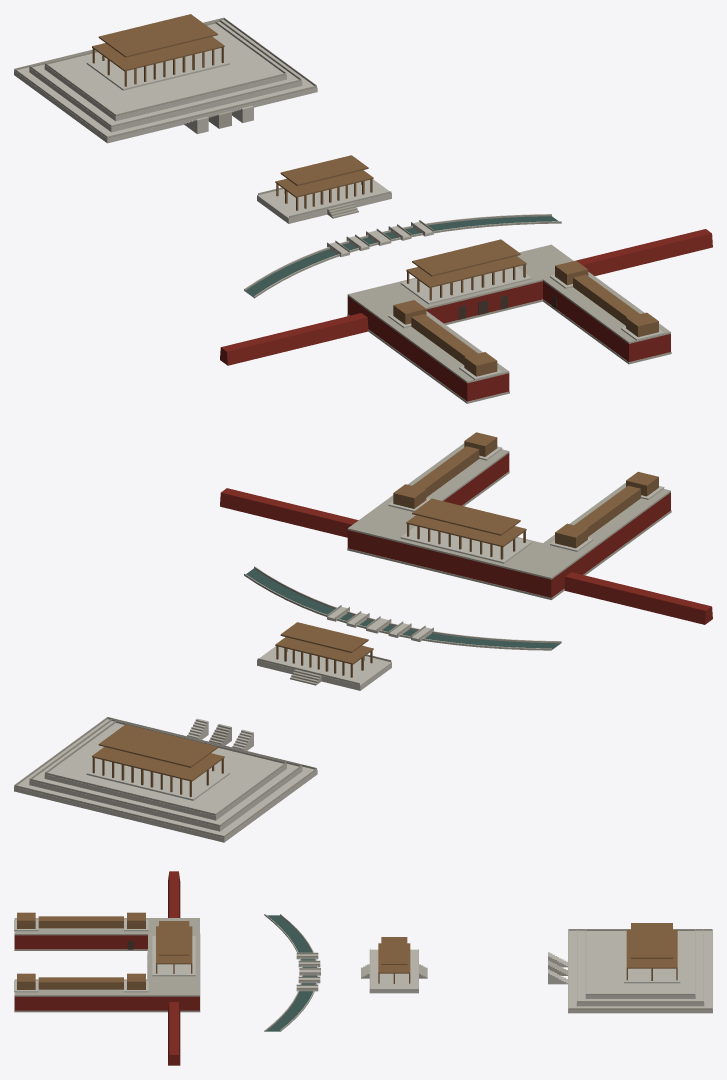
File: forbidden-city-b60.glb
The picture shows the model from 3 angles, top to bottom: view 1: azimuth 30°, elevation 25°; view 2: azimuth 150°, elevation 25°; view 3: azimuth 270°, elevation 25°; orthographic projection. The views are drawn at different scales.
Parts seen in each view (by area): view 1: forbidden-city-b60; view 2: forbidden-city-b60; view 3: forbidden-city-b60.
Part boxes in pixels (x1,y1,x2,y2): forbidden-city-b60: (14,14,712,403); forbidden-city-b60: (14,432,712,842); forbidden-city-b60: (14,871,712,1065).
Bounding box in the file's own units: 300 × 27.39 × 482.
